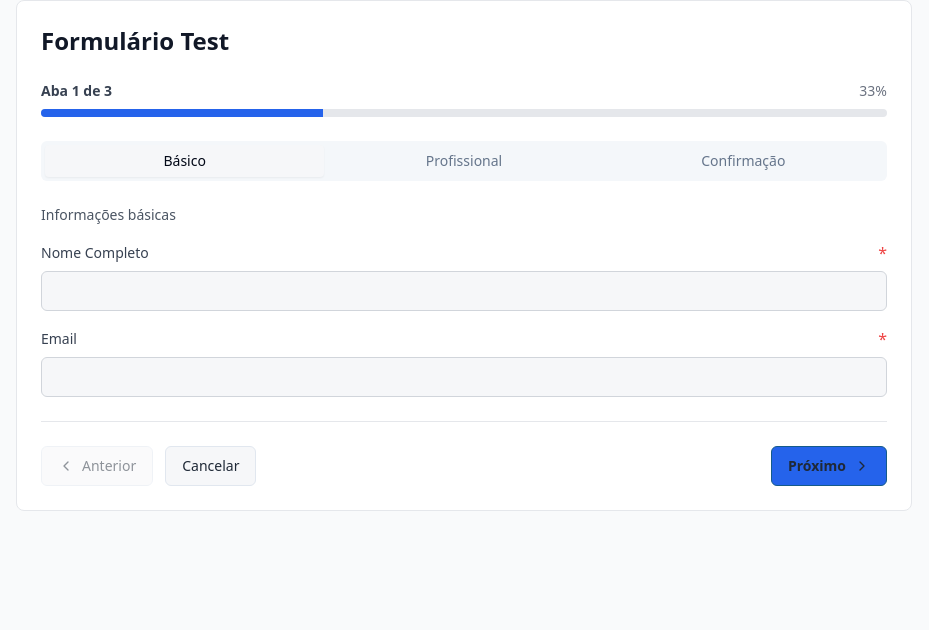
TabbedForm - Integração › volta para aba anterior
The image size is (929, 630).
//  Avançar
In the field labelled "Nome Completo": coordinates (464, 291) [41, 271, 887, 311], type "João Silva"
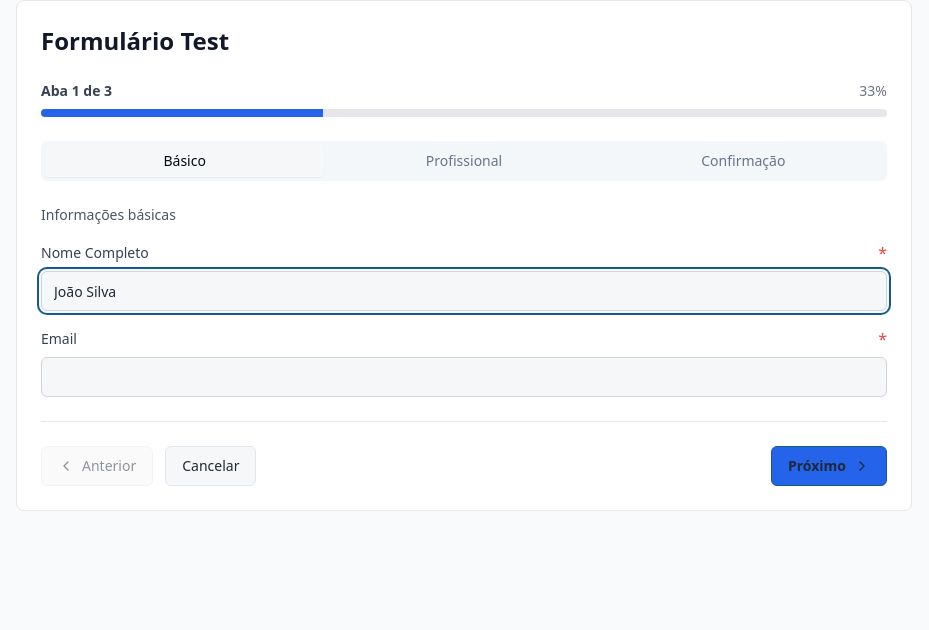
In the field labelled "Email": coordinates (464, 377) [41, 357, 887, 397], type "joao@email.com"
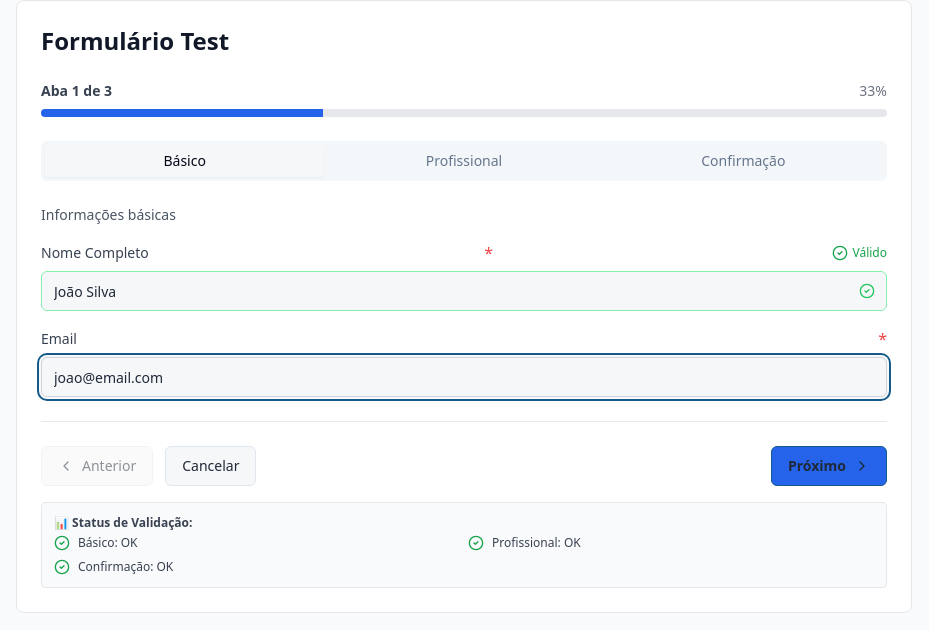
Click the button "Próximo": coordinates (829, 466) [771, 446, 887, 486]
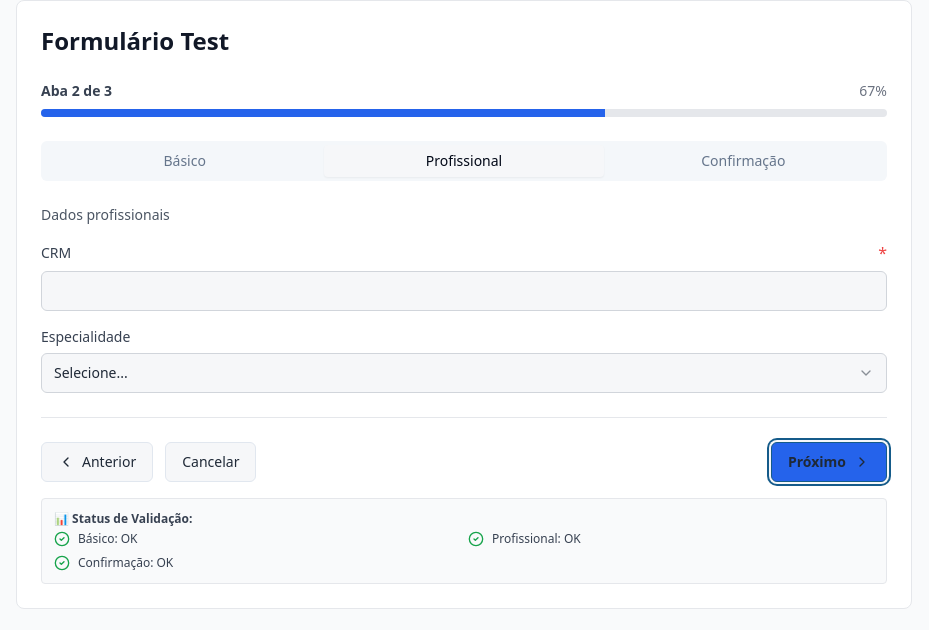
Now the field labelled "CRM" is shown, box [41, 271, 887, 311]
Click the button "Anterior": coordinates (97, 462) [41, 442, 153, 482]
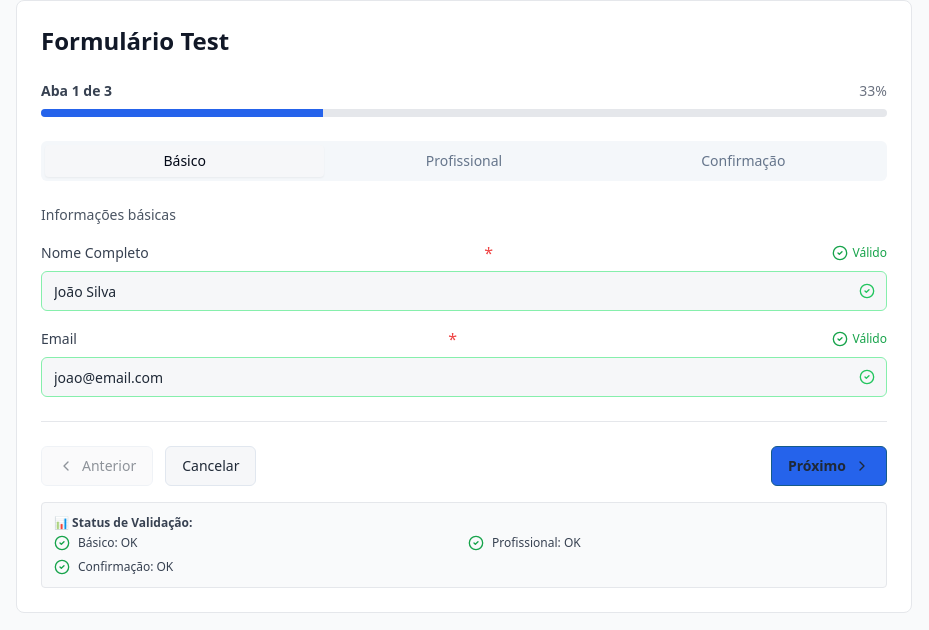
Now the field labelled "Nome Completo" is shown, box [41, 271, 887, 311]
